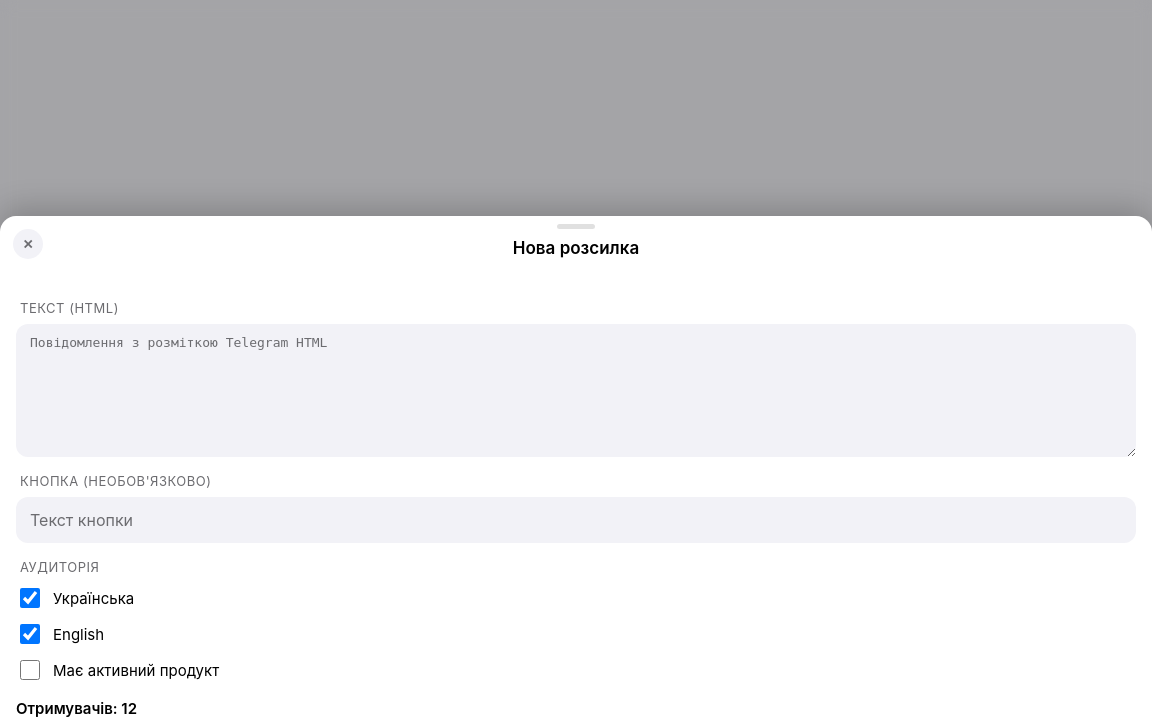
Test: AdminBroadcastNewSheet: recipients estimate › shows the new count once the estimate settles
Expected: the text "Отримувачів: 12" is shown, [16,699,137,718]
Click the checkbox labelled "English" at (30,634), box [20,624,40,644]
Wait 510 ms
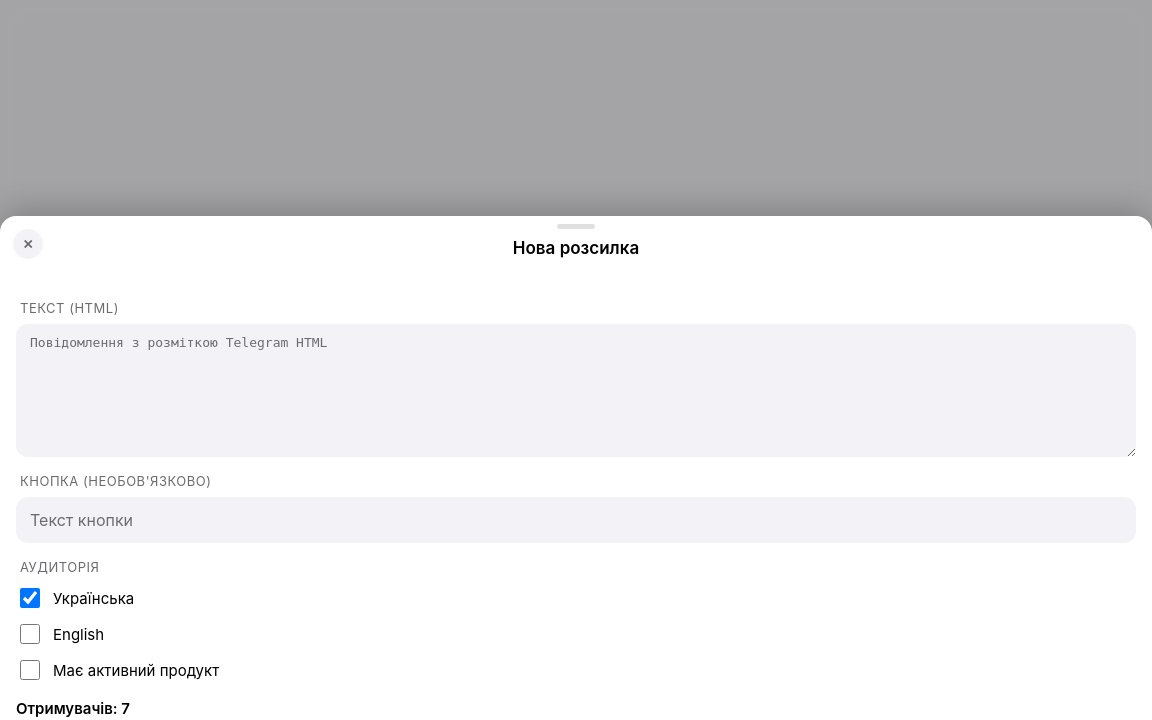
Expected: the text "Отримувачів: 7" is shown, [16,699,130,718]
